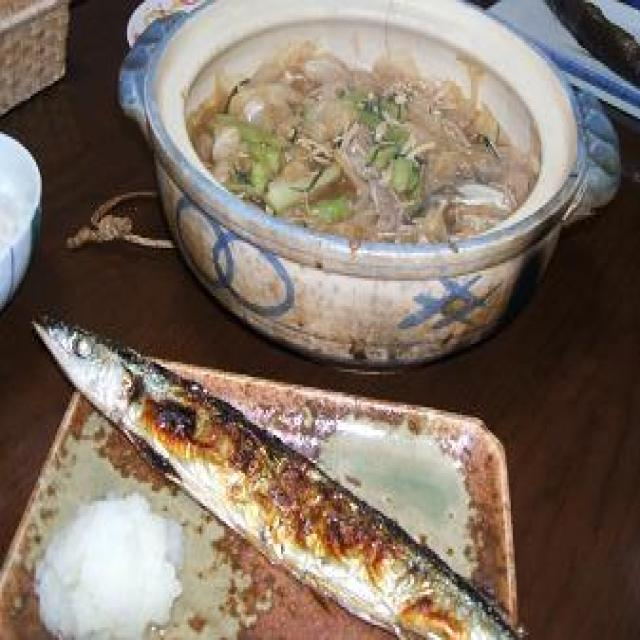熟制海鲜: (4, 301, 577, 640)
